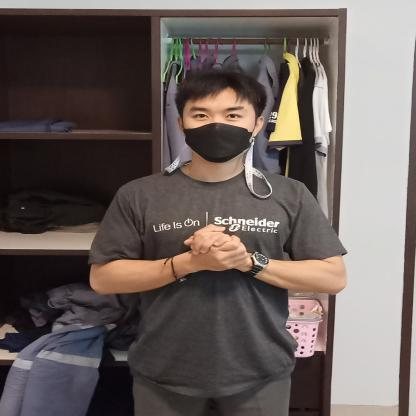Grieve: (169, 218, 276, 296)
